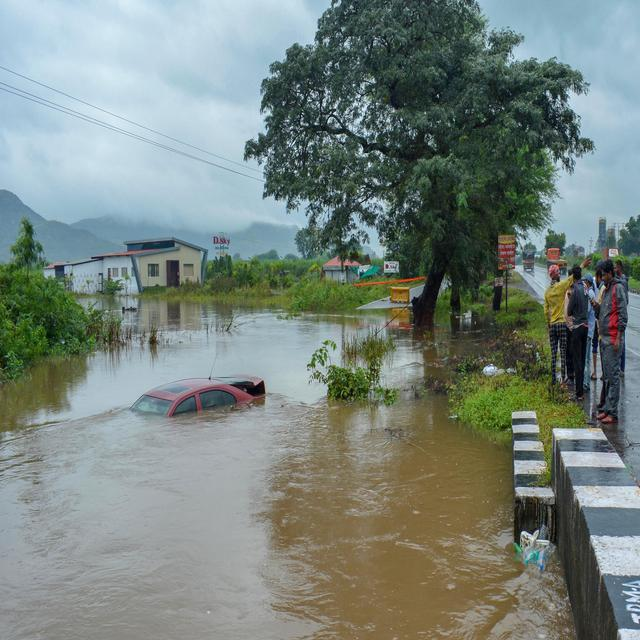Car-RiskLevel3: (113, 352, 289, 425)
Person-RiskLevel1: (529, 241, 640, 437)
